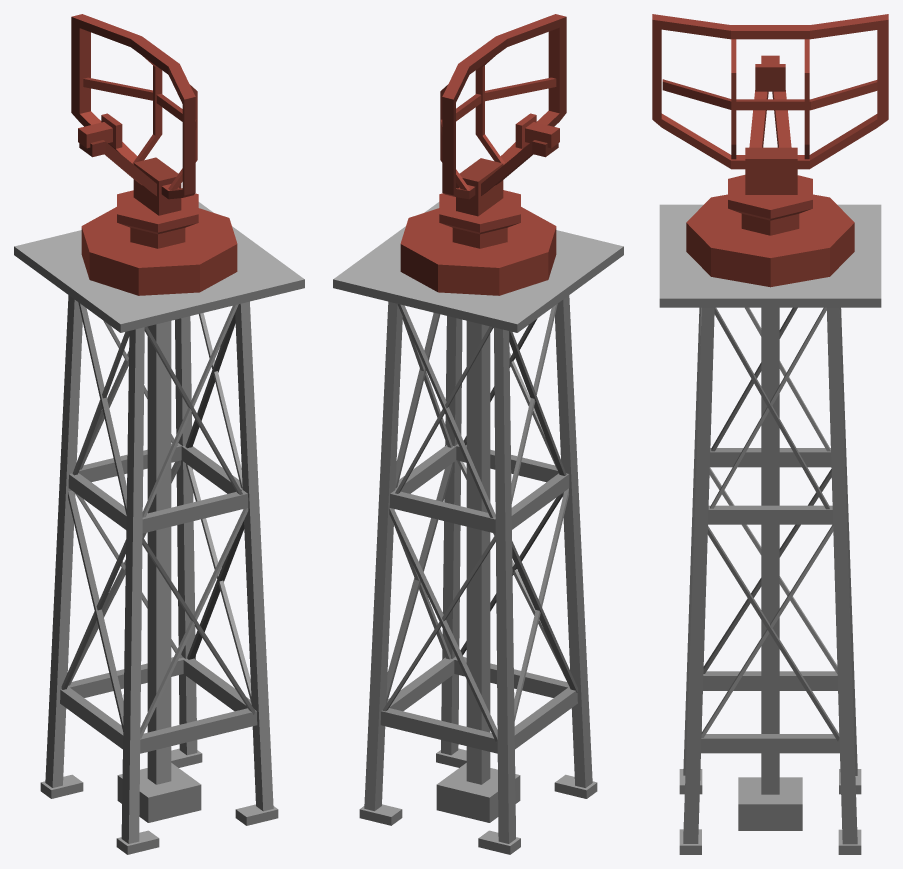
File: Radar Tower.fbx
3 views of the same model, side by side, from view 1: azimuth 30°, elevation 25°; view 2: azimuth 150°, elevation 25°; view 3: azimuth 270°, elevation 25° (orthographic). The views are drawn at different scales.
Visible parts, largest first — view 1: Radar_Tower; view 2: Radar_Tower; view 3: Radar_Tower.
Part boxes in pixels (x1,y1,x2,y2): Radar_Tower: [14, 14, 304, 854]; Radar_Tower: [333, 14, 623, 854]; Radar_Tower: [652, 14, 888, 854].
Size of the model in its own units: 1048 by 4102 by 1115.
